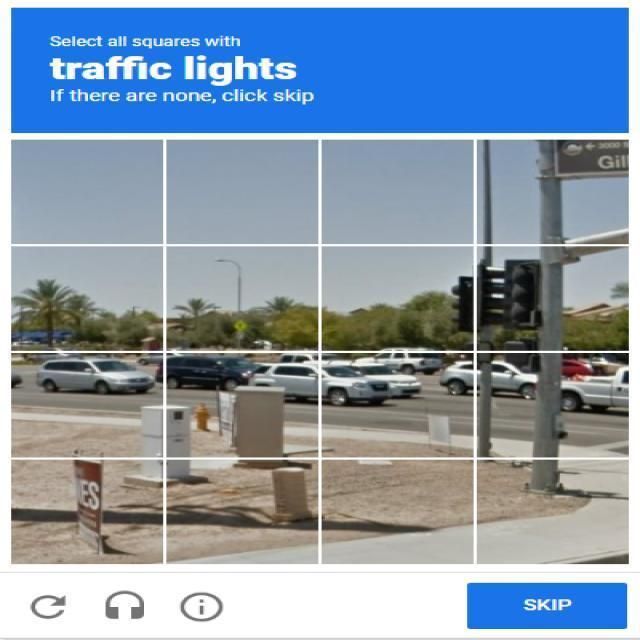traffic-lights: (503, 263, 543, 335), (455, 267, 476, 336)
